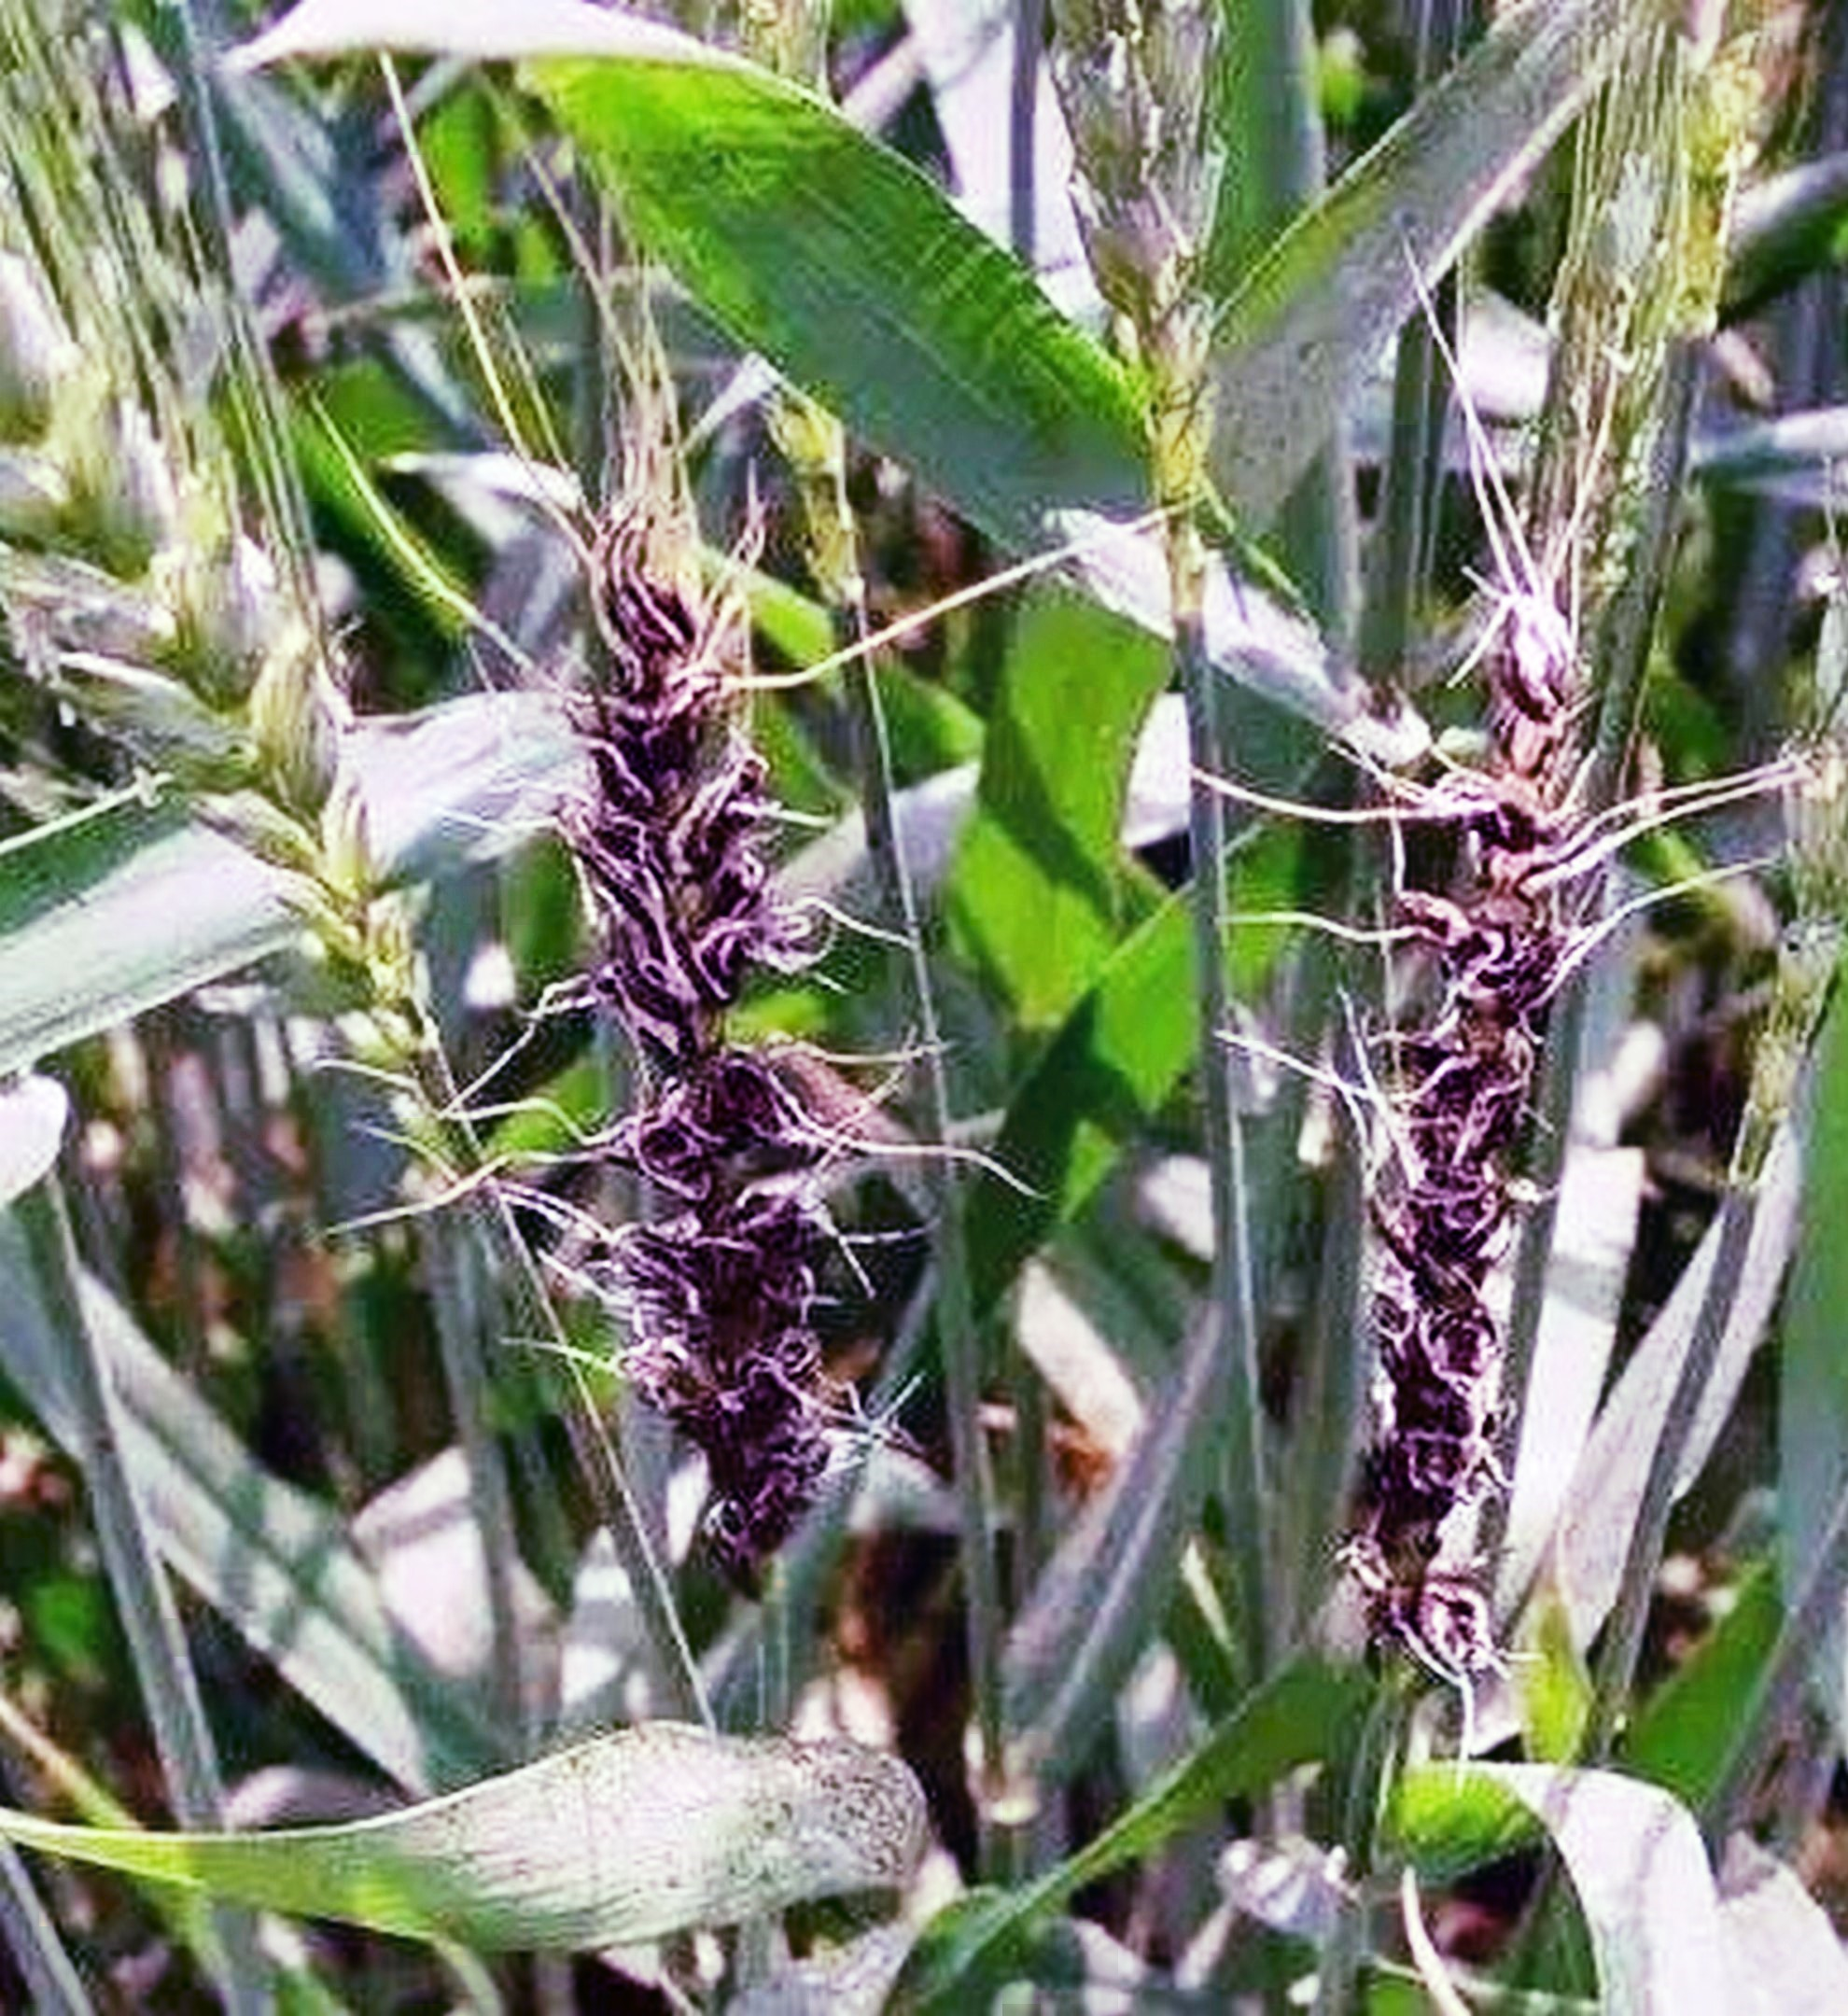Wheat Loose Smut: (502, 515, 952, 1479), (1300, 629, 1700, 1531)
